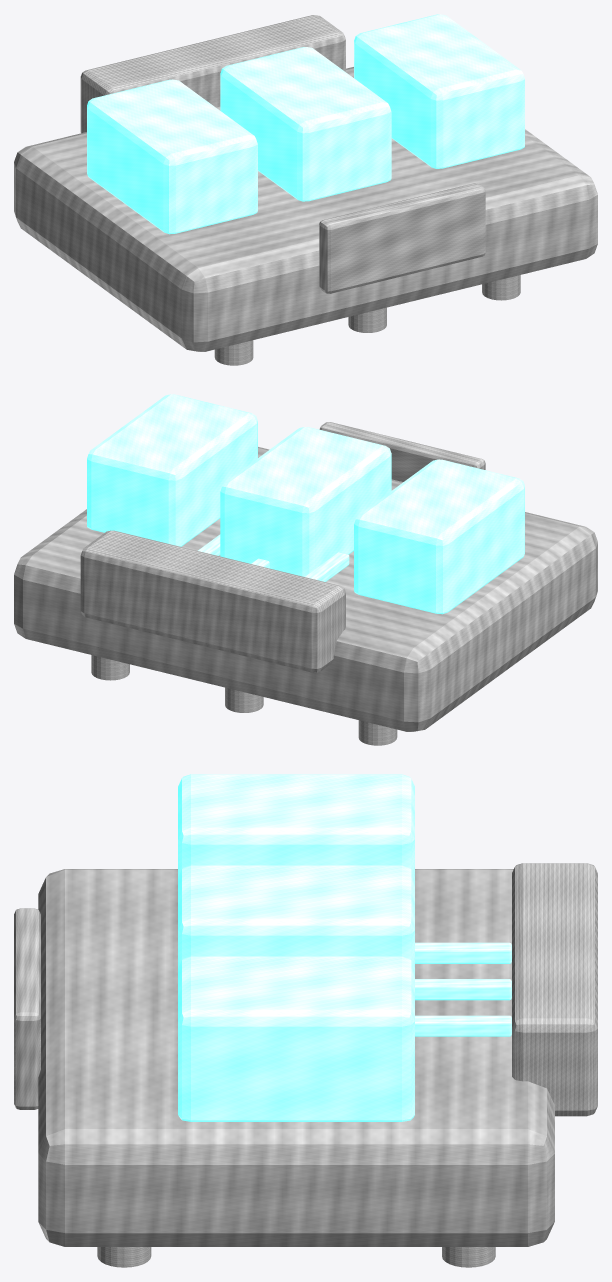
The model's file is item-thermal-propulsion-rocket_variant_d.glb.
3 renders of one model, top to bottom at view 1: azimuth 30°, elevation 25°; view 2: azimuth 150°, elevation 25°; view 3: azimuth 270°, elevation 25°, orthographic. The views are drawn at different scales.
Visible parts, largest first — view 1: Electronics carrier.003, Electronic module.009, Electronic module.010, Electronic module.011, Circuit display, Variant modular rail, Connector pin.019, Connector pin.023, Connector pin.021; view 2: Electronics carrier.003, Variant modular rail, Electronic module.009, Electronic module.011, Electronic module.010, Circuit display, Connector pin.020, Connector pin, Connector pin.022, Circuit trace.010; view 3: Electronics carrier.003, Electronic module.011, Electronic module.009, Electronic module.010, Variant modular rail, Circuit display, Circuit trace, Circuit trace.010, Circuit trace.011, Connector pin.023, Connector pin.
Boxes of the visible parts, left/top/right/bottom form: Electronics carrier.003: left=14, top=67, right=597, bottom=351; Electronic module.009: left=87, top=79, right=257, bottom=234; Electronic module.010: left=220, top=47, right=391, bottom=201; Electronic module.011: left=354, top=14, right=524, bottom=168; Circuit display: left=319, top=183, right=485, bottom=293; Variant modular rail: left=80, top=15, right=345, bottom=133; Connector pin.019: left=214, top=340, right=253, bottom=365; Connector pin.023: left=482, top=275, right=520, bottom=300; Connector pin.021: left=348, top=307, right=386, bottom=332; Electronics carrier.003: left=14, top=447, right=597, bottom=731; Variant modular rail: left=80, top=530, right=345, bottom=672; Electronic module.009: left=354, top=459, right=524, bottom=614; Electronic module.011: left=87, top=394, right=257, bottom=546; Electronic module.010: left=220, top=427, right=391, bottom=576; Circuit display: left=319, top=422, right=485, bottom=481; Connector pin.020: left=358, top=720, right=397, bottom=745; Connector pin: left=91, top=655, right=129, bottom=680; Connector pin.022: left=225, top=687, right=263, bottom=712; Circuit trace.010: left=305, top=552, right=349, bottom=581; Electronics carrier.003: left=38, top=869, right=554, bottom=1246; Electronic module.011: left=178, top=956, right=414, bottom=1121; Electronic module.009: left=178, top=774, right=414, bottom=876; Electronic module.010: left=178, top=865, right=414, bottom=967; Variant modular rail: left=512, top=863, right=597, bottom=1116; Circuit display: left=14, top=908, right=40, bottom=1109; Circuit trace: left=415, top=1015, right=511, bottom=1036; Circuit trace.010: left=415, top=942, right=511, bottom=963; Circuit trace.011: left=415, top=979, right=511, bottom=1000; Connector pin.023: left=97, top=1247, right=151, bottom=1267; Connector pin: left=442, top=1247, right=495, bottom=1267.
Size of what is drawn, in the model's own units: 0.62 by 0.28 by 0.5425.
Materials: 5 (5 with a texture image).
